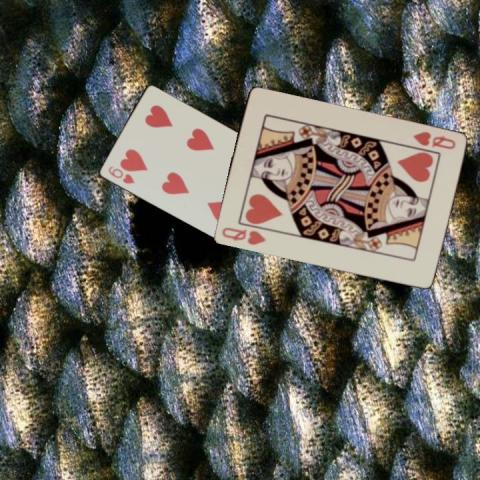6h: (105, 163, 136, 185)
Qh: (218, 224, 268, 247), (409, 129, 457, 151)
